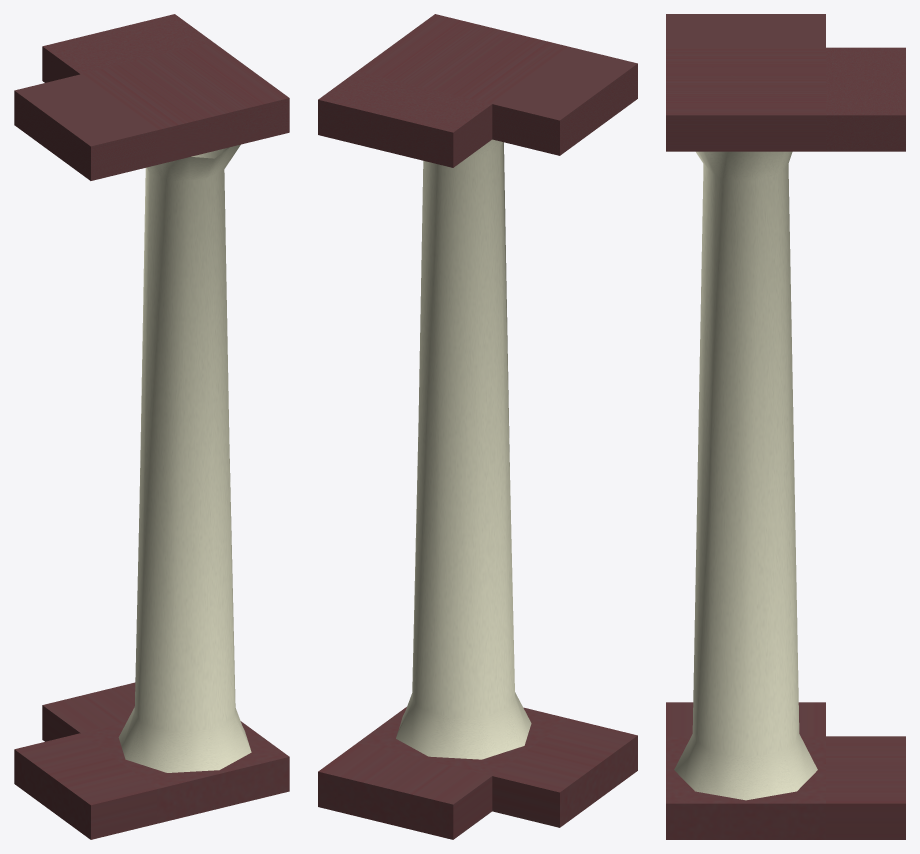
The model's file is PR_RailCornerOut.fbx.
3 views of the same model, side by side, from view 1: azimuth 30°, elevation 25°; view 2: azimuth 150°, elevation 25°; view 3: azimuth 270°, elevation 25° (orthographic). The views are drawn at different scales.
Visible parts, largest first — view 1: polySurface1; view 2: polySurface1; view 3: polySurface1.
Boxes of the visible parts, box(x1,y1,x2,y2) form: polySurface1: box(14, 14, 289, 839); polySurface1: box(318, 14, 637, 839); polySurface1: box(666, 14, 905, 839).
Bounding box in the file's own units: 30 × 100 × 30.
